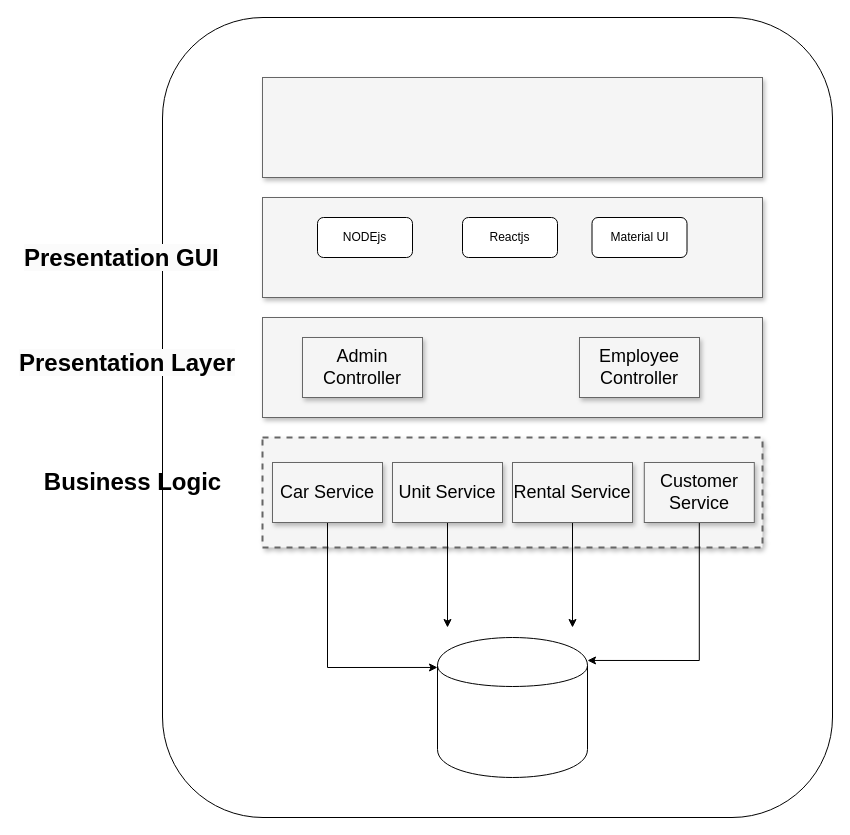
The diagram is 850 pixels wide and 835 high, and some of its shapes have lost their labels. Here are the shapes that lost their labels. From the top down, the centre of each, then its label:
At pixel 513 128: "User".
At pixel 512 707: "MySQL Database".
